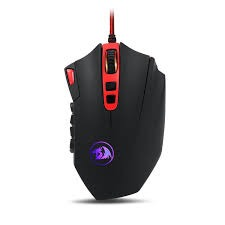mouse: (63, 43, 168, 204)
